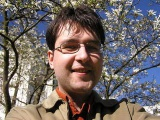male: (47, 10, 108, 96)
